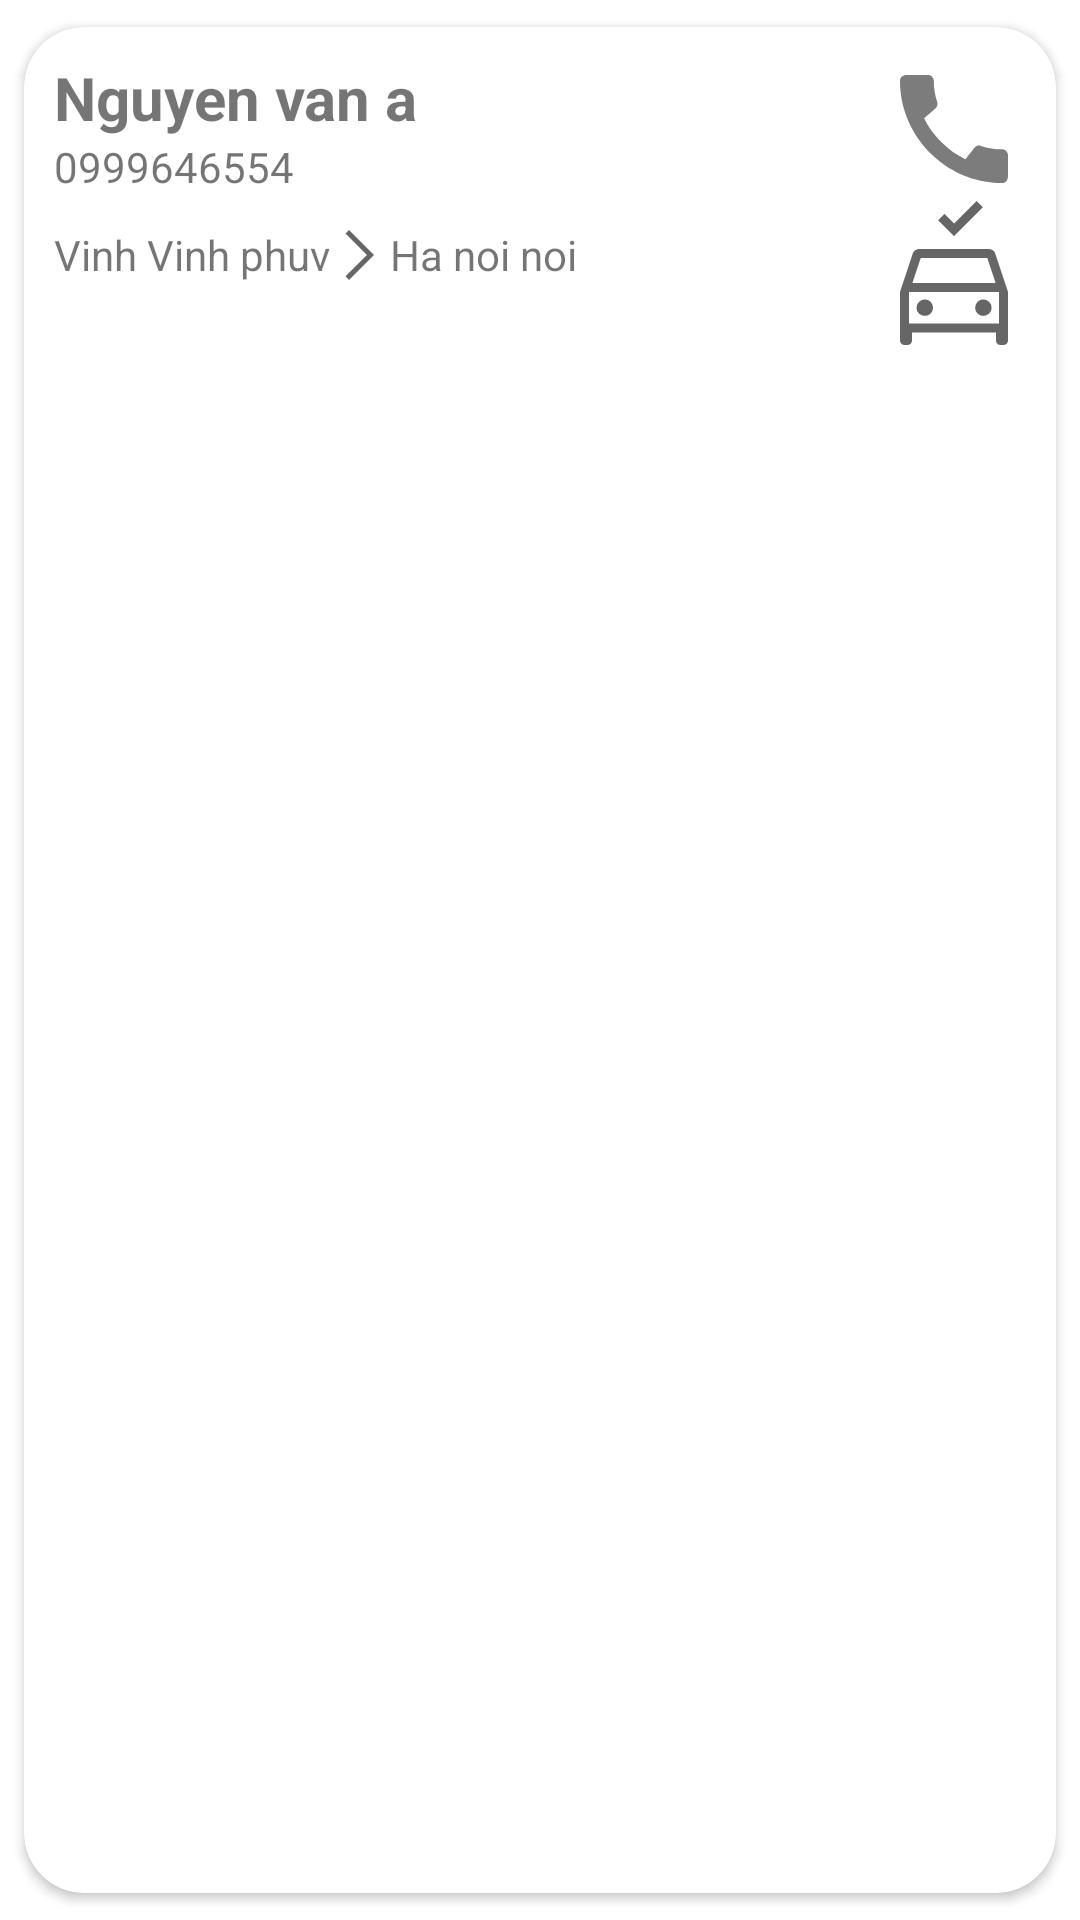

Icon click points for this 1080 x 1920 phone screenshot, format (x,y):
arrow forward: (359,255)
call: (954,129)
finish trip: (954,273)
